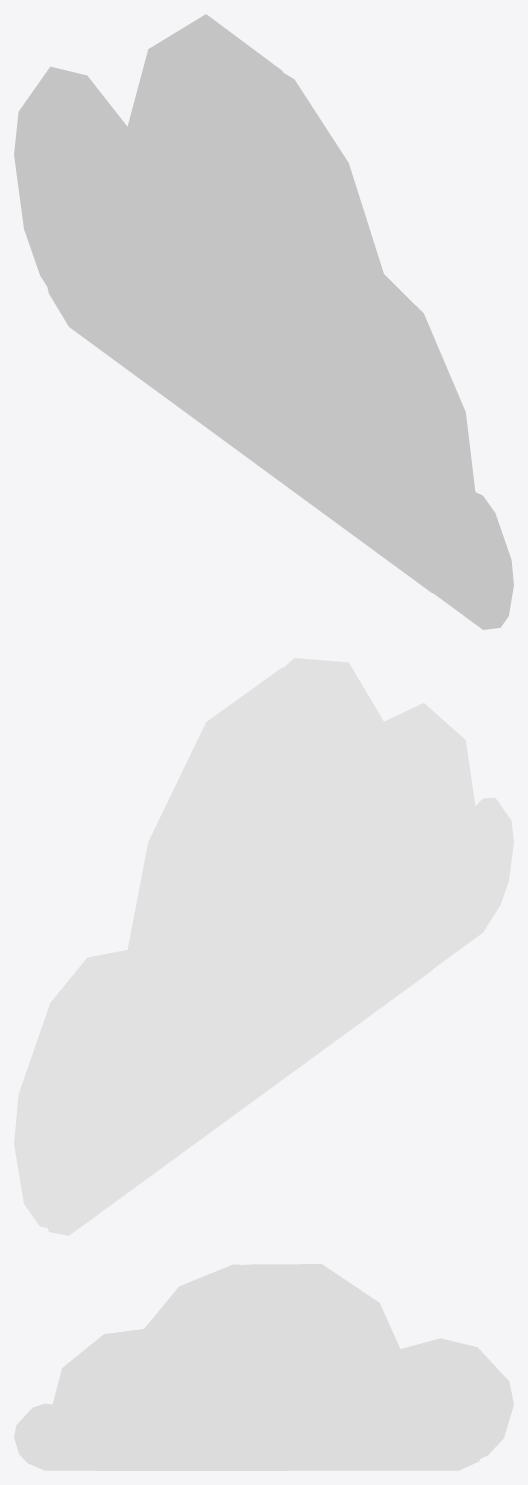
Rendered from clouds.glb.
3 views of the same model, one above another, from view 1: azimuth 30°, elevation 25°; view 2: azimuth 150°, elevation 25°; view 3: azimuth 270°, elevation 25° (orthographic). The views are drawn at different scales.
Parts seen in each view (by area): view 1: Cloud-3, Cloud-2; view 2: Cloud-3, Cloud-2; view 3: Cloud-2, Cloud-1, Cloud-3.
Part boxes in pixels (box(x1,y1,x2,y2)): Cloud-3: box(14, 14, 513, 629); Cloud-2: box(47, 73, 475, 593); Cloud-3: box(14, 667, 513, 1230); Cloud-2: box(47, 658, 475, 1235); Cloud-2: box(52, 1264, 492, 1470); Cloud-1: box(168, 1342, 390, 1470); Cloud-3: box(14, 1264, 513, 1470).
Bounding box in the file's own units: 0.000213 × 138 × 302.
Materials: 1 (1 with a texture image).
